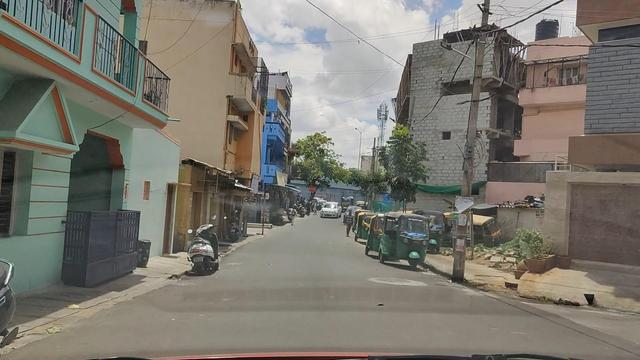LMV: (381, 216, 433, 268)
RoadDamages: (364, 272, 426, 290)
